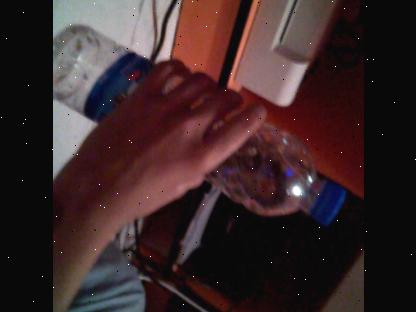Plastic Bottle: (52, 14, 341, 236)
